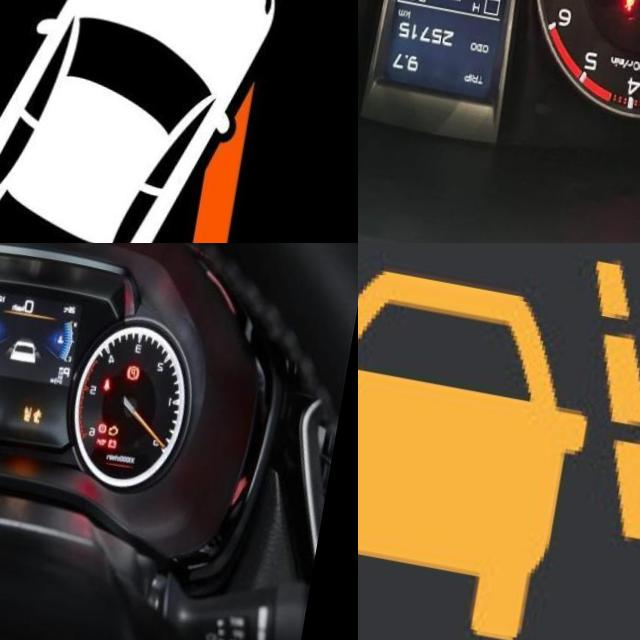Seat Belt: (113, 361, 123, 377)
